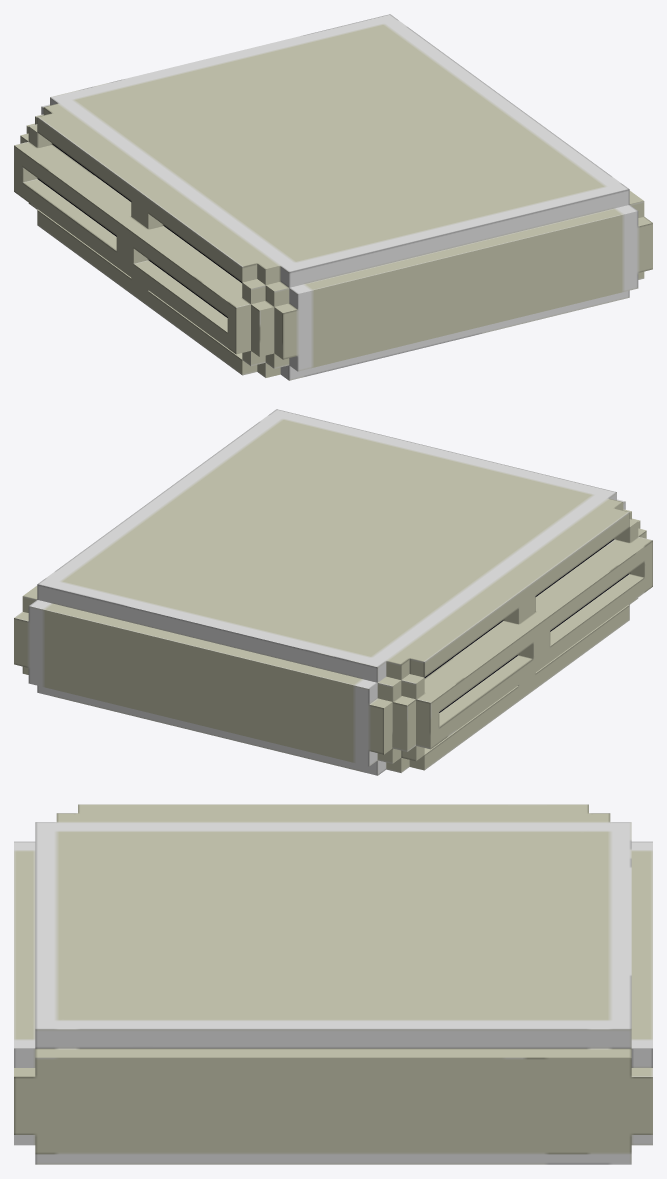
Rendered from AirConditioner_4.fbx.
3 renders of one model, top to bottom at view 1: azimuth 30°, elevation 25°; view 2: azimuth 150°, elevation 25°; view 3: azimuth 270°, elevation 25°, orthographic. The views are drawn at different scales.
Parts seen in each view (by area): view 1: AirConditioner_4.001; view 2: AirConditioner_4.001; view 3: AirConditioner_4.001.
Boxes of the visible parts, x1,y1,x2,y2 form: AirConditioner_4.001: (14, 14, 652, 380); AirConditioner_4.001: (14, 409, 652, 775); AirConditioner_4.001: (14, 804, 652, 1164).
Size of the model in its own units: 2.7 by 0.7 by 3.
Materials: 1 (1 with a texture image).
